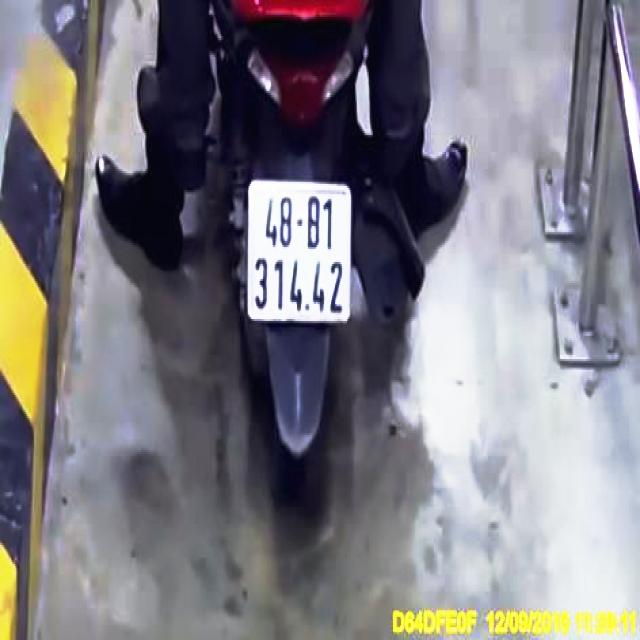license_plate: (249, 182, 351, 323)
